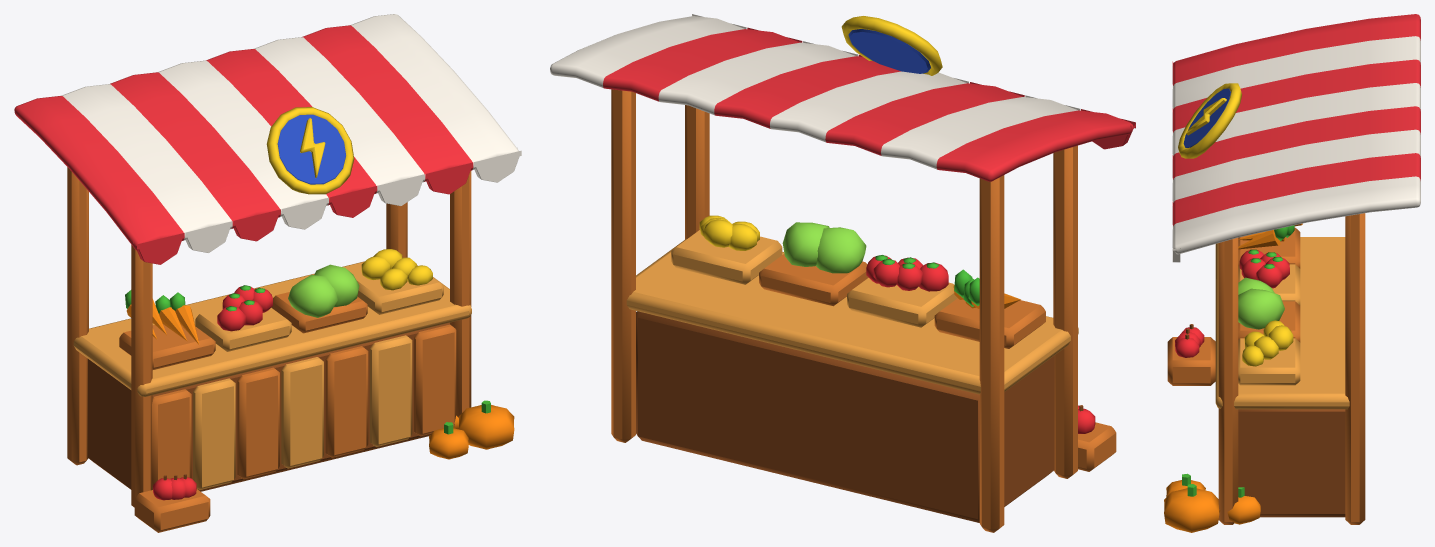
Rendered from market-stall.glb.
3 renders of one model, left to right at view 1: azimuth 30°, elevation 25°; view 2: azimuth 150°, elevation 25°; view 3: azimuth 270°, elevation 25°, orthographic. The views are drawn at different scales.
Parts seen in each view (by area): view 1: market-stall; view 2: market-stall; view 3: market-stall.
Boxes of the visible parts, x1=… form: market-stall: x1=14, y1=14, x2=521, y2=532; market-stall: x1=550, y1=14, x2=1135, y2=532; market-stall: x1=1164, y1=14, x2=1420, y2=532.
Size of the model in its own units: 3.15 by 2.8 by 1.82.
